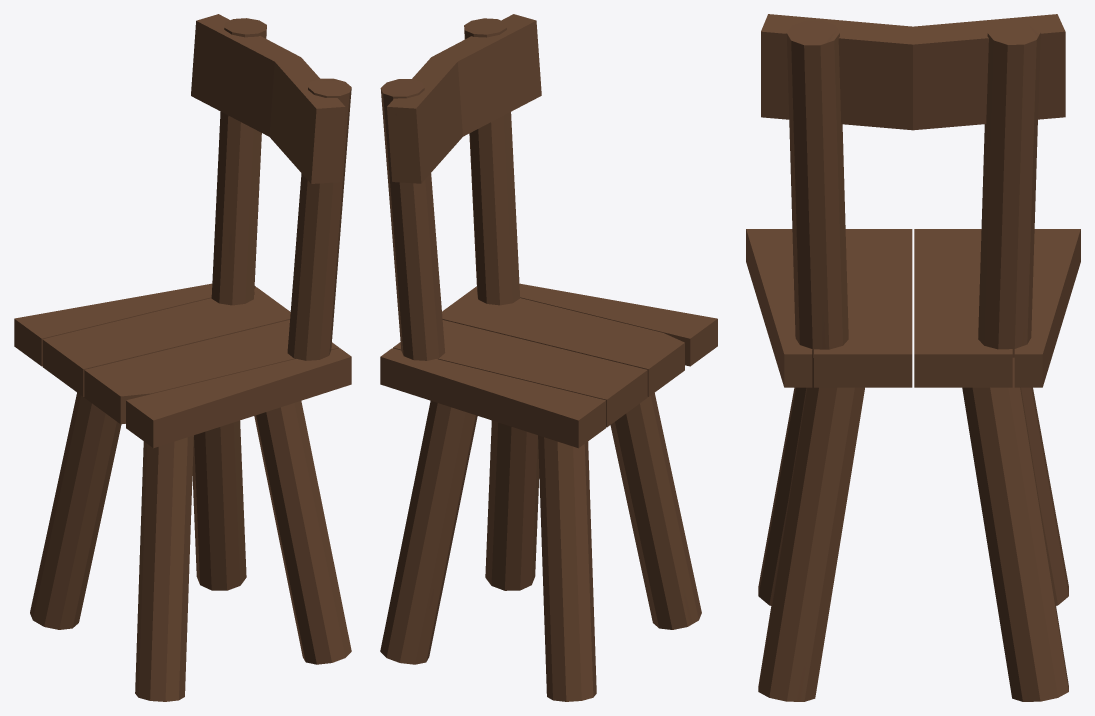
The model's file is Chair.fbx.
The picture shows the model from 3 angles, left to right: view 1: azimuth 30°, elevation 25°; view 2: azimuth 150°, elevation 25°; view 3: azimuth 270°, elevation 25°; orthographic projection. The views are drawn at different scales.
Visible parts, largest first — view 1: Cube; view 2: Cube; view 3: Cube.
Part boxes in pixels (x1,y1,x2,y2): Cube: (14,14,351,701); Cube: (380,14,717,701); Cube: (746,14,1080,701).
Size of the model in its own units: 39.89 by 95.93 by 43.18.
1 material, 1 textured.
